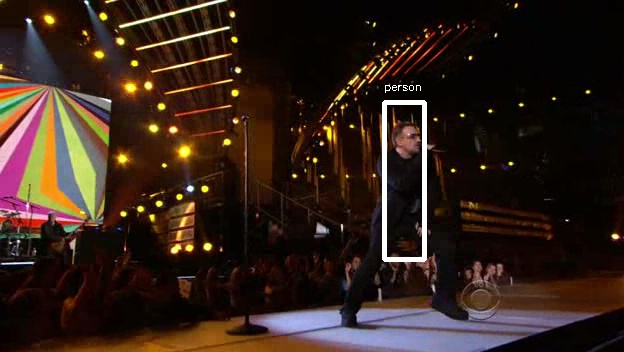person: (370, 125, 442, 255), (367, 125, 439, 255), (373, 125, 445, 255), (370, 122, 442, 252), (370, 128, 442, 258)
target_negative: (255, 98, 559, 247), (478, 104, 622, 222), (300, 251, 549, 304), (485, 25, 585, 71), (55, 2, 324, 19), (52, 350, 389, 352)
